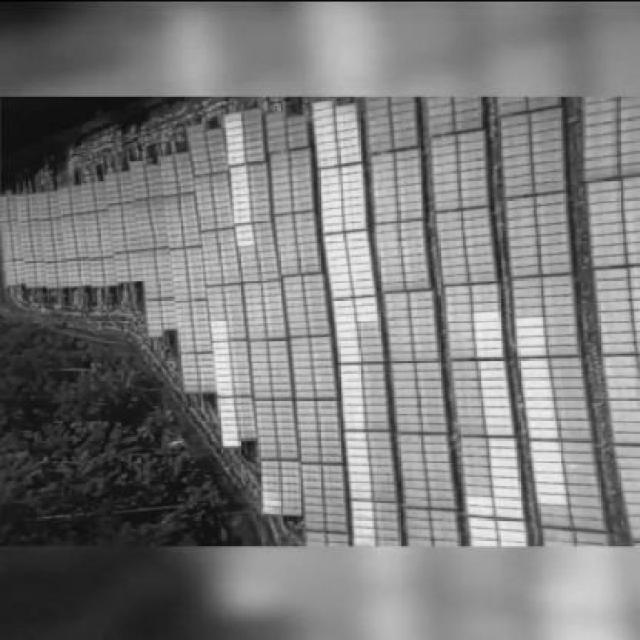diode: (534, 492, 568, 503), (534, 472, 566, 482), (498, 530, 524, 542), (527, 406, 558, 416), (493, 491, 521, 502), (533, 481, 567, 490), (495, 520, 520, 532), (528, 427, 560, 436), (466, 522, 492, 533), (493, 502, 521, 512), (522, 376, 550, 386), (519, 344, 547, 354), (517, 324, 545, 334), (523, 388, 554, 397), (520, 316, 546, 326), (463, 497, 491, 506), (466, 513, 494, 522), (492, 461, 520, 470), (527, 398, 555, 407), (476, 347, 504, 356), (487, 416, 511, 426), (482, 376, 506, 386), (475, 318, 499, 328), (347, 528, 371, 538), (492, 480, 518, 489), (481, 367, 507, 376), (523, 369, 552, 377), (486, 407, 511, 416), (483, 388, 508, 397), (523, 358, 548, 367), (467, 532, 495, 540), (487, 427, 515, 435), (530, 416, 558, 424), (519, 336, 547, 344), (340, 372, 362, 382), (494, 471, 518, 480), (491, 441, 515, 450), (531, 440, 558, 448), (319, 143, 343, 152), (334, 110, 358, 119), (481, 357, 504, 366), (345, 474, 367, 483), (332, 274, 354, 283), (330, 257, 352, 266), (325, 218, 347, 227), (536, 462, 564, 469), (487, 398, 508, 407), (338, 351, 359, 360), (357, 311, 378, 320), (476, 329, 499, 337), (496, 515, 522, 522), (474, 311, 500, 318), (264, 488, 282, 498), (344, 148, 362, 158), (342, 142, 360, 152), (346, 503, 368, 511), (340, 382, 362, 390), (356, 293, 378, 301), (346, 233, 368, 241), (342, 160, 364, 168), (536, 451, 561, 458), (343, 398, 362, 407), (319, 108, 338, 117), (345, 211, 364, 220), (492, 451, 516, 458), (478, 338, 502, 345), (354, 282, 375, 290), (327, 227, 348, 235), (347, 219, 368, 227), (321, 160, 339, 169), (320, 123, 338, 132), (341, 118, 359, 127), (344, 124, 362, 133), (224, 123, 242, 132), (329, 268, 351, 275), (356, 263, 373, 272), (329, 234, 346, 243), (319, 100, 336, 109), (341, 357, 359, 365), (348, 204, 364, 213), (325, 176, 343, 184), (320, 116, 338, 124), (344, 406, 361, 414), (345, 458, 364, 465), (336, 326, 358, 332), (355, 302, 377, 308), (322, 194, 344, 200), (323, 186, 345, 192), (351, 249, 367, 257), (332, 250, 348, 258), (228, 140, 244, 148), (351, 538, 372, 544), (348, 522, 369, 528), (348, 494, 369, 500), (348, 486, 369, 492), (342, 417, 363, 423), (341, 389, 359, 396), (341, 342, 359, 349), (325, 209, 343, 216), (345, 191, 366, 197), (224, 430, 239, 438), (330, 243, 345, 251), (349, 513, 368, 519), (345, 443, 364, 449), (349, 242, 368, 248), (323, 153, 342, 159), (322, 133, 341, 139), (233, 182, 252, 188), (233, 166, 252, 172), (216, 327, 230, 335), (229, 148, 245, 155), (225, 131, 241, 138), (264, 498, 282, 504), (347, 468, 365, 474), (344, 434, 362, 440), (344, 426, 362, 432), (342, 366, 360, 372), (340, 333, 358, 339), (334, 301, 352, 307), (334, 293, 352, 299), (355, 274, 373, 280), (324, 201, 342, 207), (347, 174, 365, 180), (342, 134, 360, 140), (238, 238, 256, 244), (232, 174, 250, 180), (232, 158, 250, 164), (221, 440, 239, 446), (234, 192, 249, 199), (217, 379, 232, 386), (217, 396, 234, 402), (215, 353, 232, 359), (333, 286, 350, 292), (349, 228, 366, 234), (236, 206, 253, 212), (498, 542, 522, 546), (339, 310, 355, 316), (355, 258, 371, 264), (239, 232, 255, 238), (236, 224, 252, 230), (235, 200, 251, 206), (236, 214, 252, 220), (218, 387, 233, 393), (348, 198, 363, 204), (350, 183, 365, 189), (325, 170, 340, 176), (222, 414, 236, 420), (214, 346, 228, 352), (224, 427, 238, 433), (339, 319, 355, 324), (346, 451, 365, 455), (220, 404, 238, 408), (218, 367, 230, 373), (214, 340, 226, 346), (215, 320, 227, 326), (345, 169, 363, 173), (216, 391, 233, 395), (216, 360, 229, 365), (223, 421, 239, 425), (213, 334, 229, 338), (217, 375, 231, 379), (220, 409, 234, 413), (464, 508, 491, 510), (464, 542, 494, 543)
hotspot: (265, 502, 269, 508)
